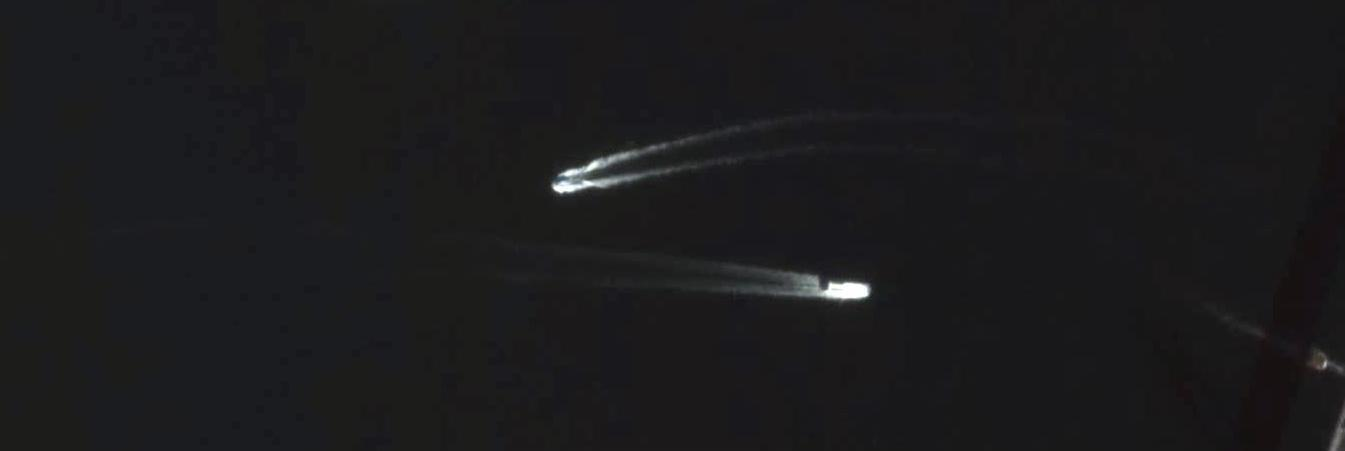person: (828, 282, 871, 299), (552, 173, 582, 186)
